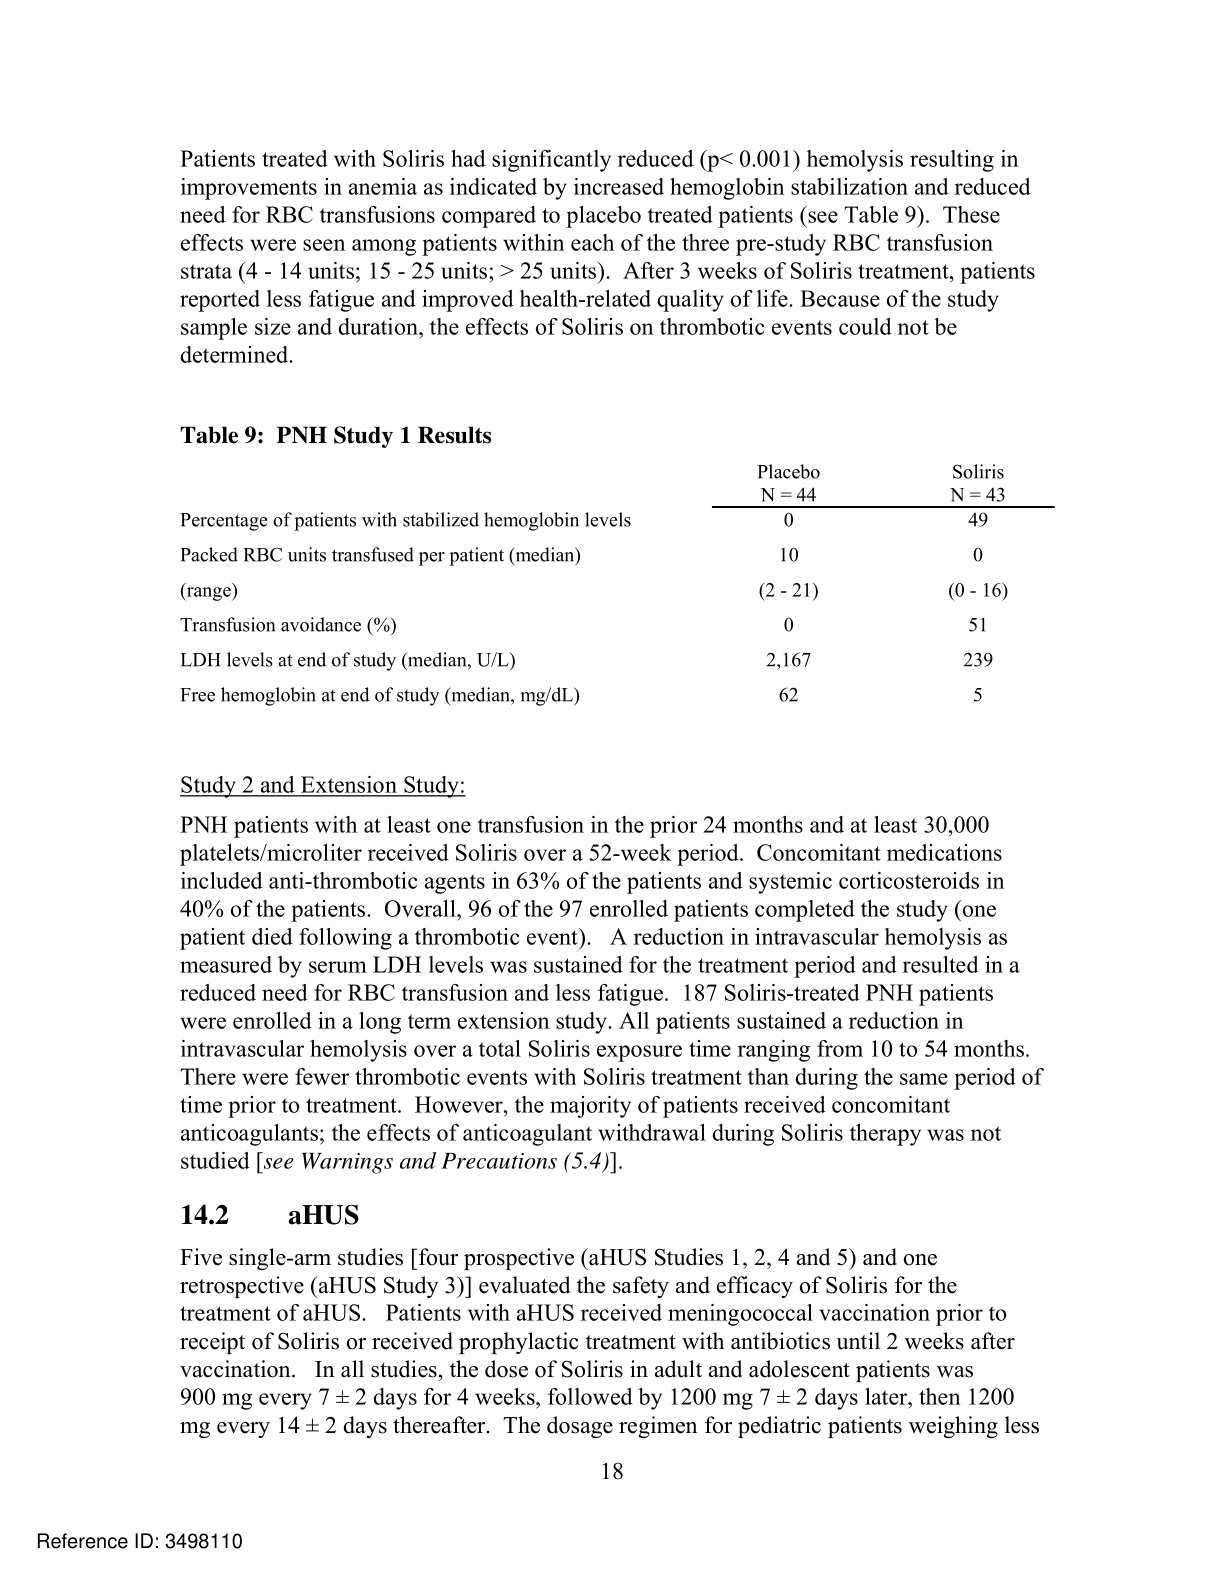partial_lined: (179, 460, 1056, 711)
